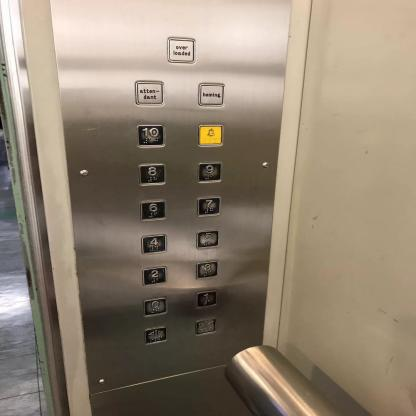0: (142, 296, 168, 316)
1: (194, 289, 218, 308)
10: (136, 124, 166, 147)
2: (141, 266, 168, 286)
3: (195, 260, 219, 279)
4: (140, 233, 168, 254)
5: (195, 229, 220, 249)
6: (138, 199, 167, 221)
7: (195, 196, 221, 216)
8: (137, 162, 167, 186)
9: (197, 161, 222, 183)
alarm: (197, 124, 223, 146)
close: (194, 317, 217, 336)
open: (142, 324, 168, 344)
text_attendant: (134, 80, 164, 106)
text_homing: (197, 82, 226, 107)
text_overloaded: (166, 36, 197, 64)
